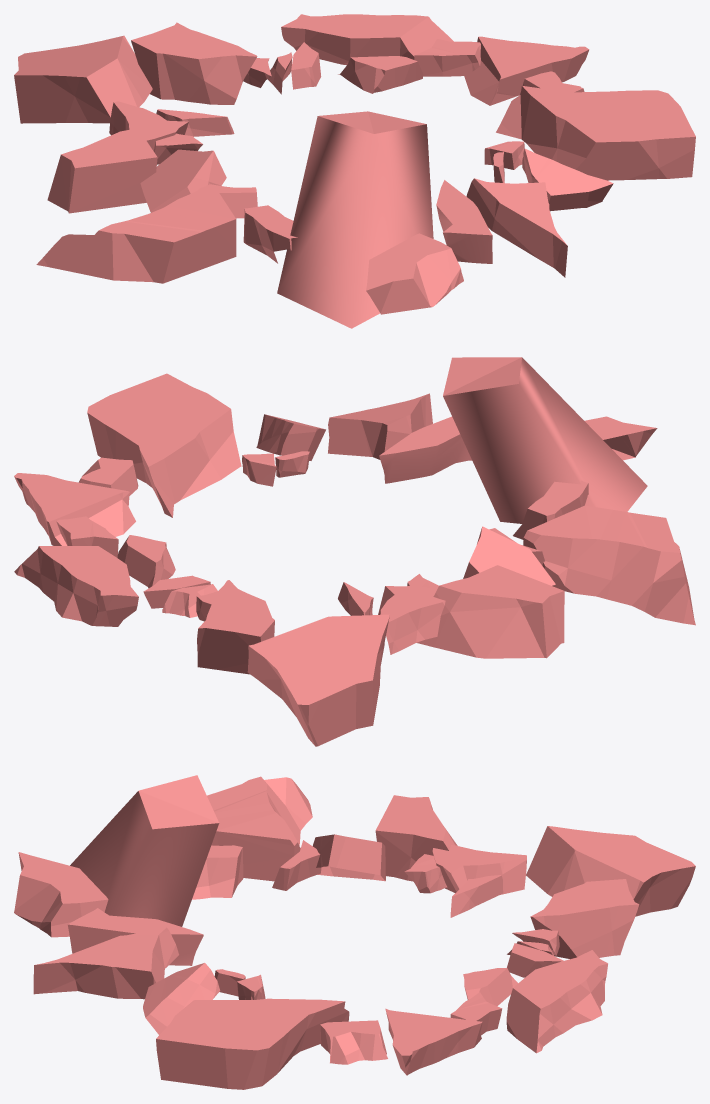
The picture shows the model from 3 angles, top to bottom: view 1: azimuth 30°, elevation 25°; view 2: azimuth 150°, elevation 25°; view 3: azimuth 270°, elevation 25°; orthographic projection. The views are drawn at different scales.
Visible parts, largest first — view 1: mx_shitoupx_wj; view 2: mx_shitoupx_wj; view 3: mx_shitoupx_wj.
Part boxes in pixels (left/top/right/bottom): mx_shitoupx_wj: left=14, top=14, right=695, bottom=328; mx_shitoupx_wj: left=14, top=357, right=695, bottom=746; mx_shitoupx_wj: left=14, top=775, right=695, bottom=1089.
Size of the model in its own units: 2411 by 597 by 2376.
